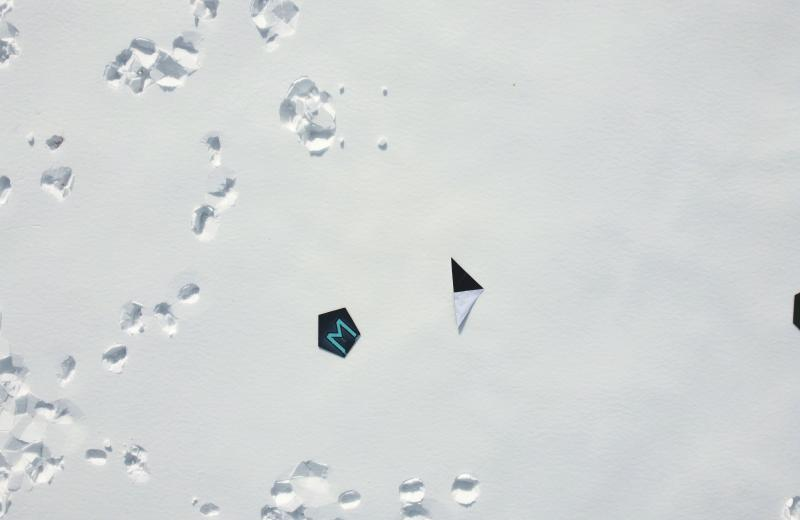Pentagon: (316, 307, 362, 360)
